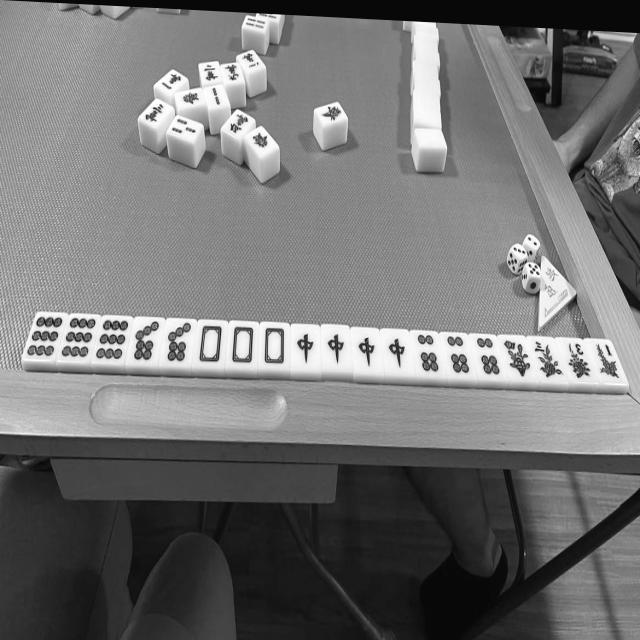bai: (229, 321, 256, 370), (263, 323, 287, 369), (198, 322, 222, 366)
f1: (596, 338, 620, 383)
f3: (565, 337, 593, 383)
ff3: (533, 336, 564, 384)
ff4: (503, 335, 531, 383)
t6: (446, 334, 470, 381), (416, 331, 439, 379), (476, 337, 500, 381)
t7: (129, 317, 162, 363), (163, 317, 193, 364)
t9: (28, 314, 62, 362), (62, 314, 96, 361), (96, 316, 129, 364)
zhong: (294, 327, 319, 370), (386, 331, 410, 374), (356, 330, 377, 373), (326, 328, 347, 369)
